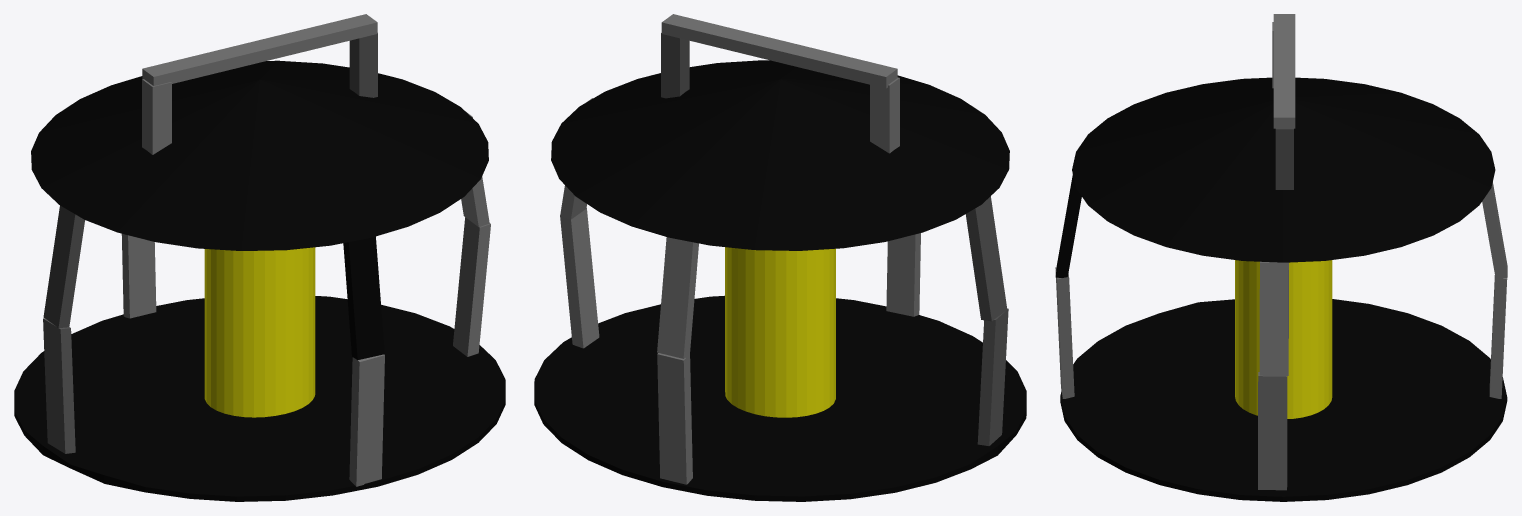
File: lantern.fbx
3 renders of one model, left to right at view 1: azimuth 30°, elevation 25°; view 2: azimuth 150°, elevation 25°; view 3: azimuth 270°, elevation 25°, orthographic. The views are drawn at different scales.
Visible parts, largest first — view 1: Cone, Cylinder, Cylinder.001, Cube.009, Cube.007, Cube.004, Cube.005, Cube.006, Cube, Cube.002, Cube.008, Cube.001; view 2: Cone, Cylinder, Cylinder.001, Cube.009, Cube.007, Cube.002, Cube.003, Cube, Cube.006, Cube.004, Cube.008, Cube.001; view 3: Cone, Cylinder, Cylinder.001, Cube, Cube.001, Cube.009, Cube.004, Cube.002, Cube.003, Cube.005, Cube.007.
Boxes of the visible parts, box(x1,y1,x2,y2) form: Cone: box(31, 60, 488, 250); Cylinder: box(14, 296, 505, 501); Cylinder.001: box(204, 247, 315, 417); Cube.009: box(142, 14, 377, 85); Cube.007: box(43, 33, 377, 328); Cube.004: box(349, 354, 384, 486); Cube.005: box(343, 236, 384, 359); Cube.006: box(43, 318, 75, 453); Cube: box(453, 217, 490, 356); Cube.002: box(121, 233, 156, 318); Cube.008: box(142, 79, 171, 154); Cube.001: box(461, 112, 489, 226); Cone: box(551, 60, 1009, 250); Cylinder: box(534, 295, 1026, 501); Cylinder.001: box(725, 247, 835, 417); Cube.009: box(661, 14, 897, 88); Cube.007: box(661, 33, 1007, 321); Cube.002: box(657, 353, 692, 484); Cube.003: box(657, 237, 698, 358); Cube: box(560, 208, 599, 348); Cube.006: box(977, 308, 1008, 445); Cube.004: box(886, 233, 920, 316); Cube.008: box(870, 77, 899, 153); Cube.001: box(560, 98, 592, 219); Cone: box(1072, 77, 1495, 262); Cylinder: box(1060, 299, 1507, 501); Cylinder.001: box(1235, 260, 1332, 418); Cube: box(1258, 372, 1287, 490); Cube.001: box(1259, 261, 1288, 375); Cube.009: box(1273, 14, 1295, 128); Cube.004: box(1055, 267, 1074, 398); Cube.002: box(1489, 275, 1507, 398); Cube.003: box(1482, 182, 1507, 278); Cube.005: box(1055, 174, 1081, 277); Cube.007: box(1275, 128, 1293, 189).
Bounding box in the file's own units: 22.04 × 17.25 × 20.92.
